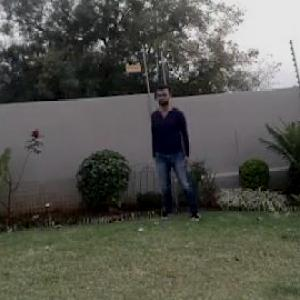follow: (151, 84, 198, 230)
